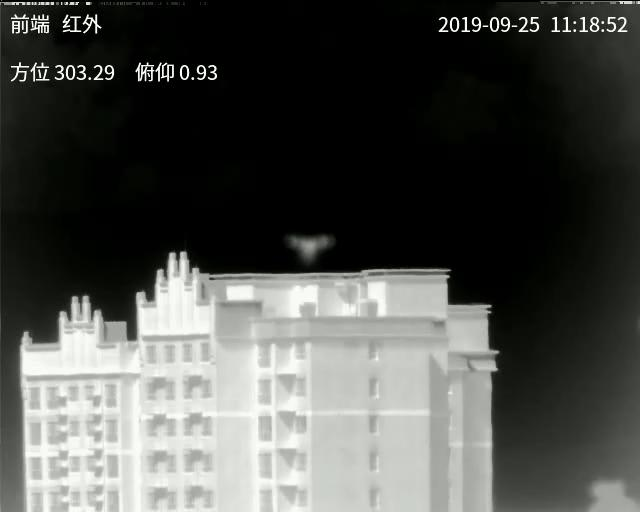uav: (287, 229, 335, 265)
